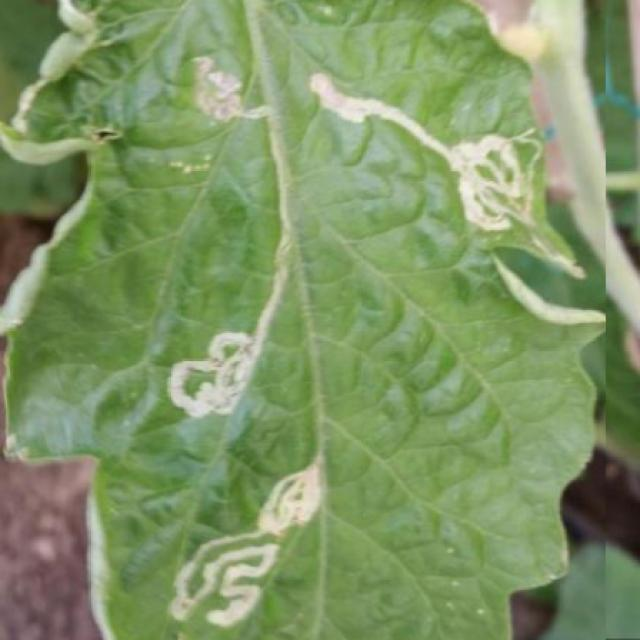Leaf Miner: (0, 0, 606, 640)
